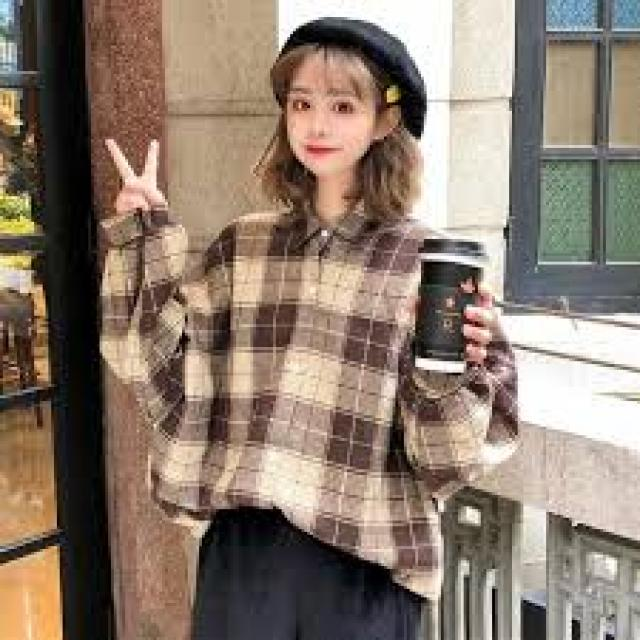plaid: (102, 190, 522, 587)
